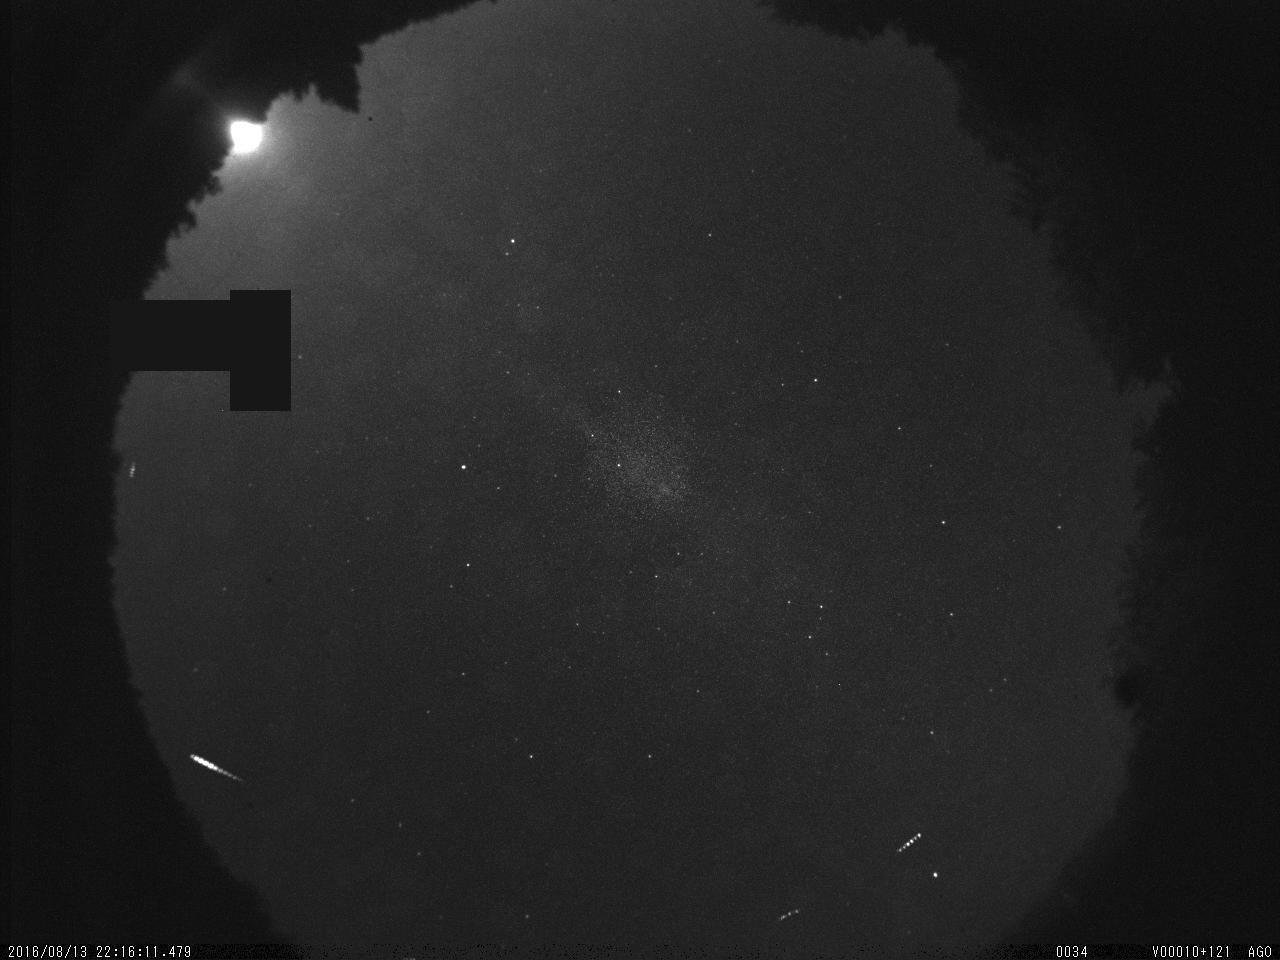Meteor: (182, 744, 250, 792)
